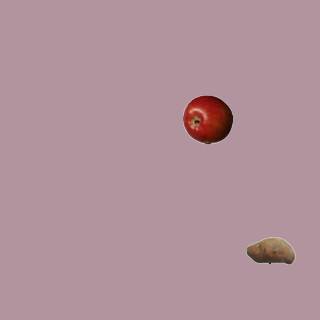Apple Braeburn: (182, 94, 232, 144)
Potato Sweet: (245, 225, 295, 275)
